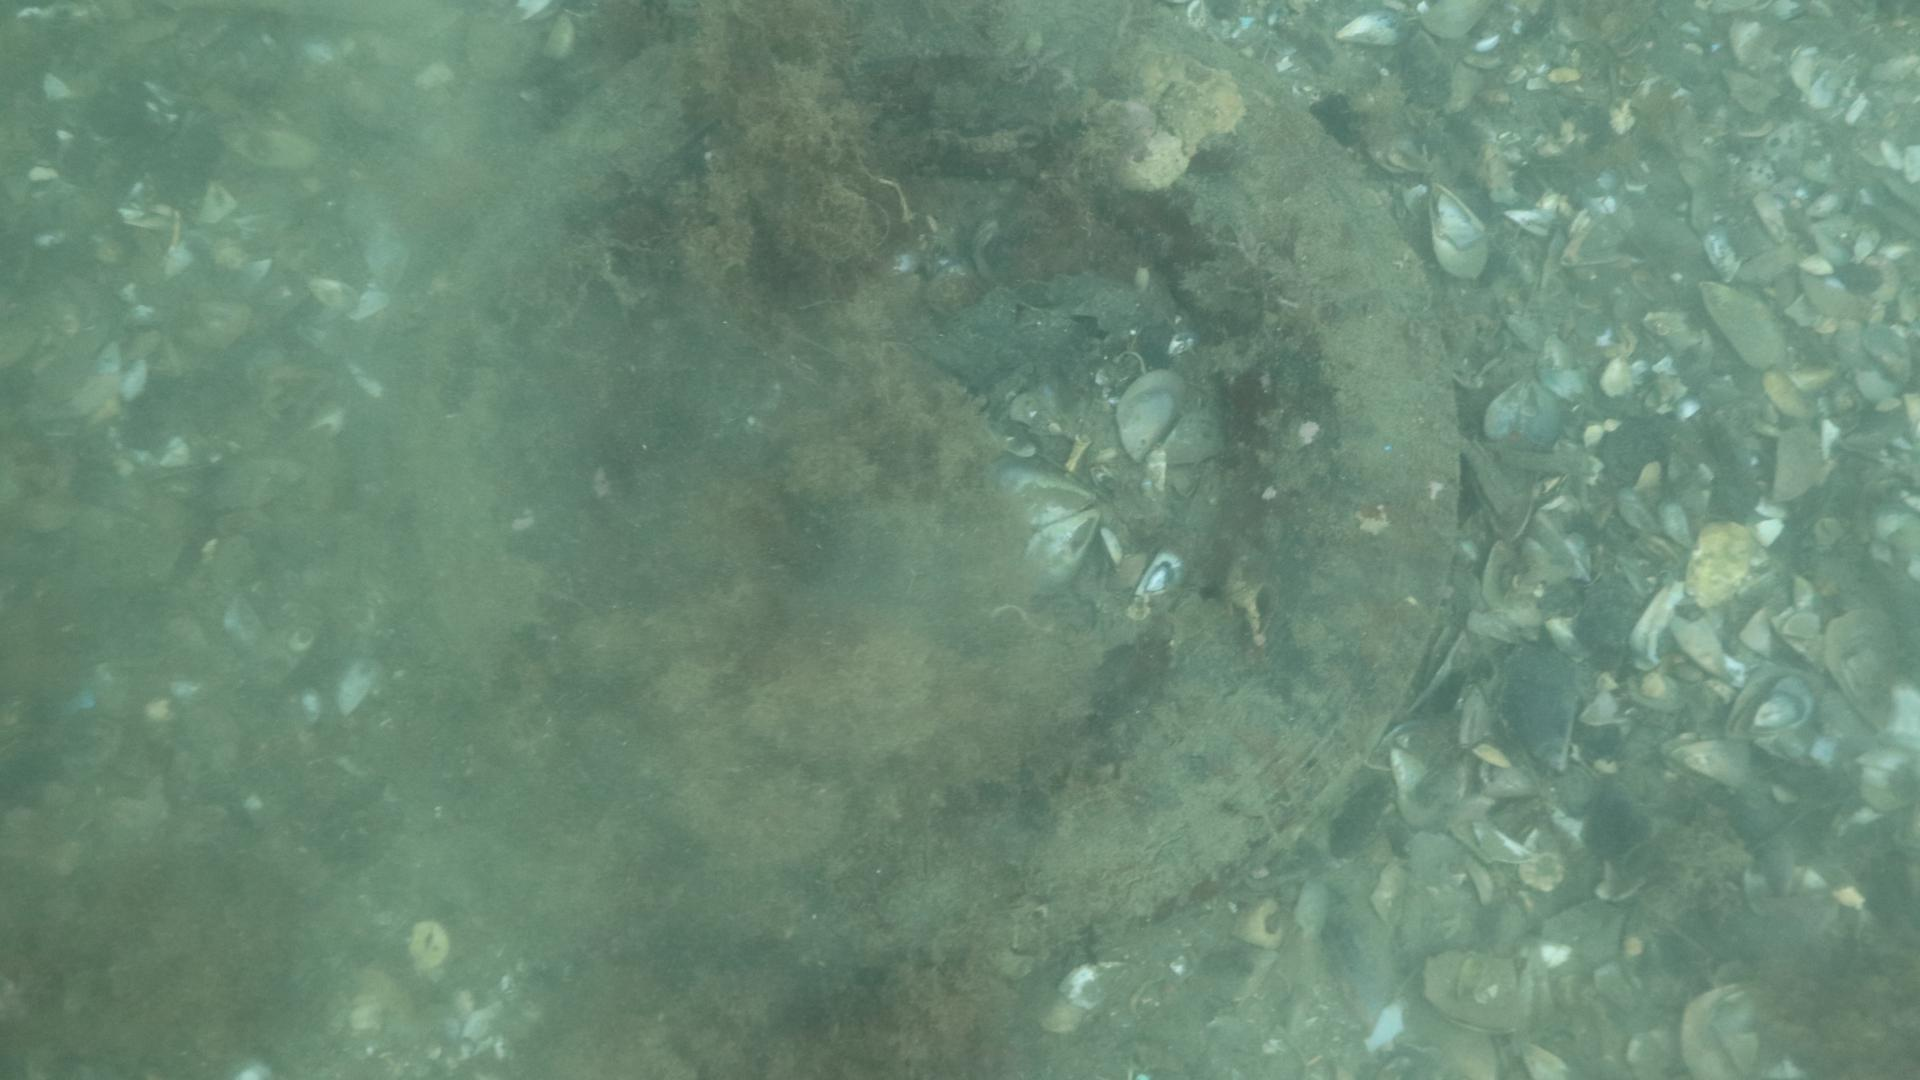tire: (404, 0, 1462, 988)
